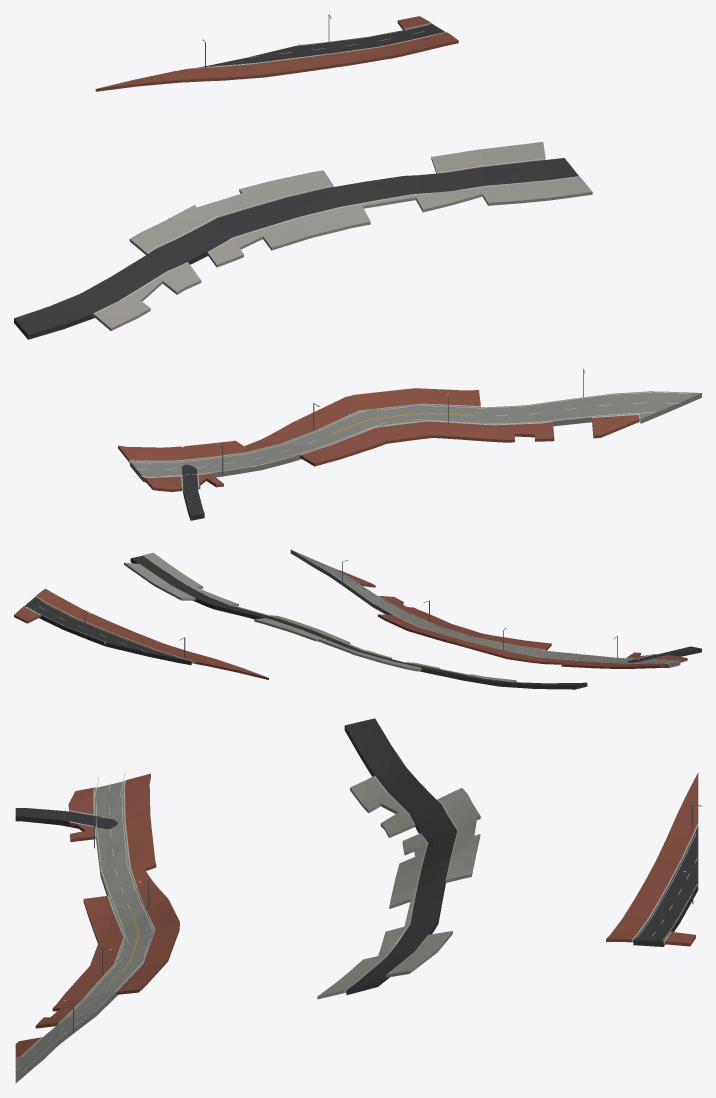
The picture shows the model from 3 angles, top to bottom: view 1: azimuth 30°, elevation 25°; view 2: azimuth 150°, elevation 25°; view 3: azimuth 270°, elevation 25°; orthographic projection. The views are drawn at different scales.
Bounding box in the file's own units: 150 × 47.31 × 147.
